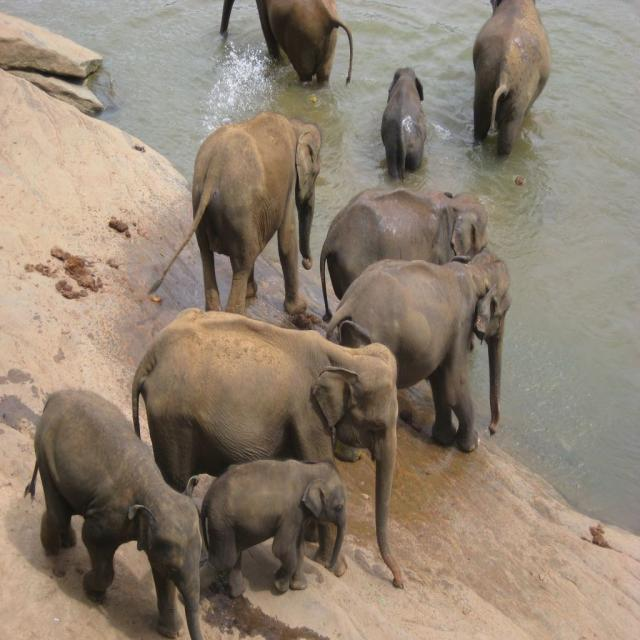Elephant: (130, 307, 404, 590), (24, 387, 204, 639), (324, 250, 512, 454), (147, 110, 322, 324), (319, 187, 488, 323), (197, 458, 347, 598), (472, 0, 550, 157), (219, 0, 353, 86), (380, 66, 427, 181)
